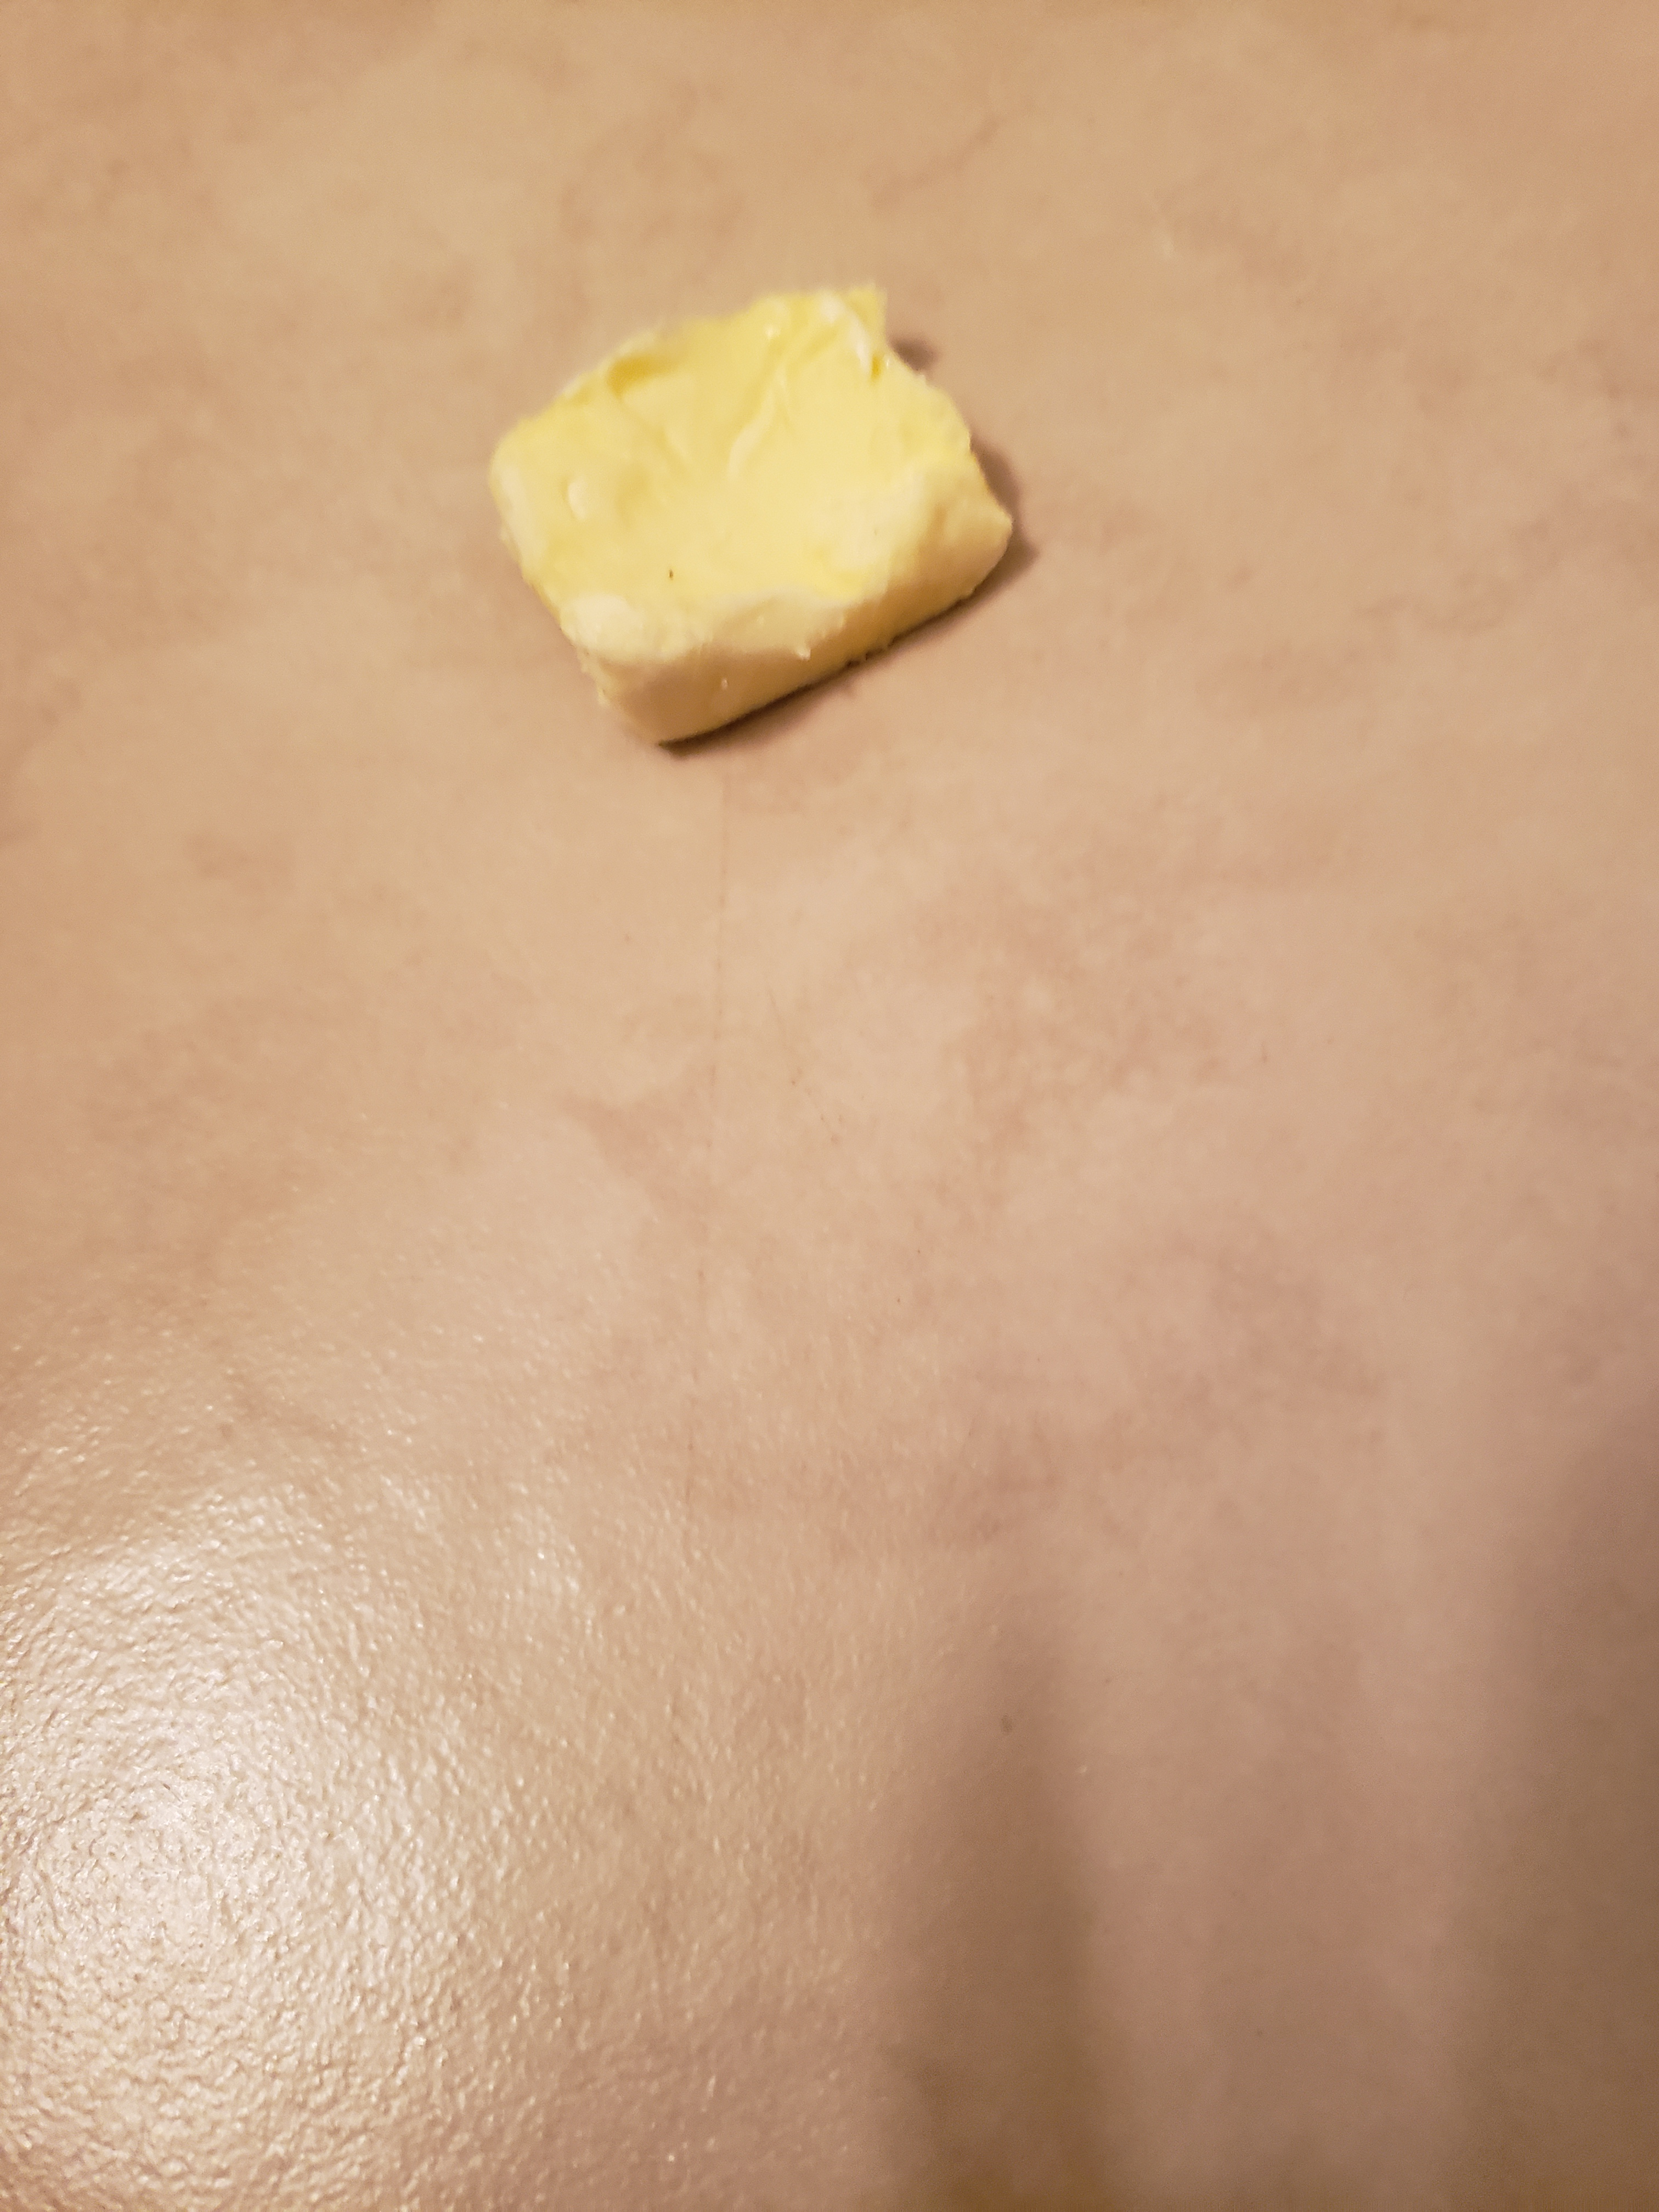Butter: (486, 287, 1014, 749)
